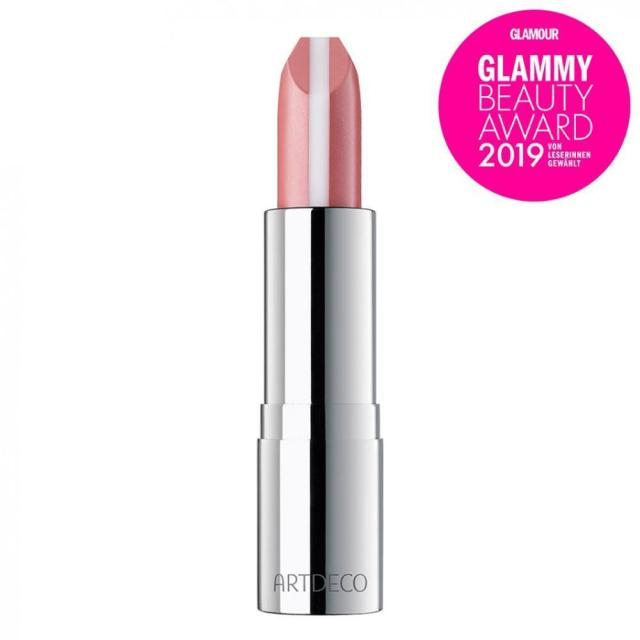lipstick: (248, 20, 394, 634)
